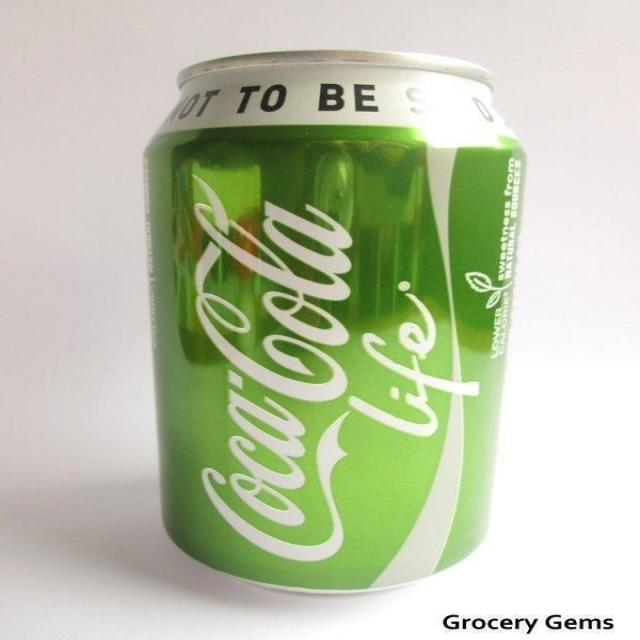tin can: (142, 49, 530, 598)
